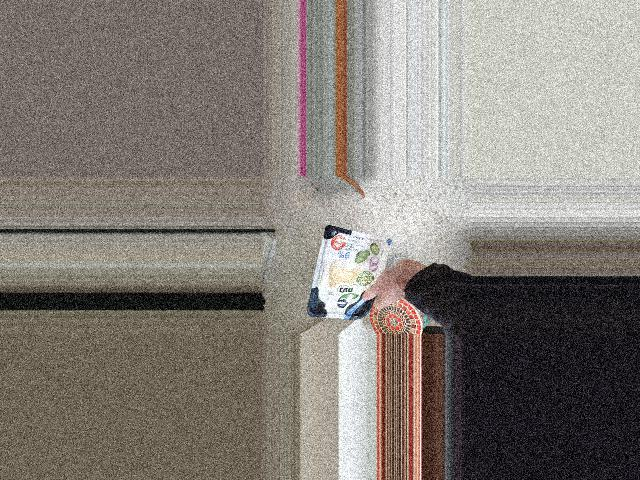cheese: (314, 224, 383, 325)
